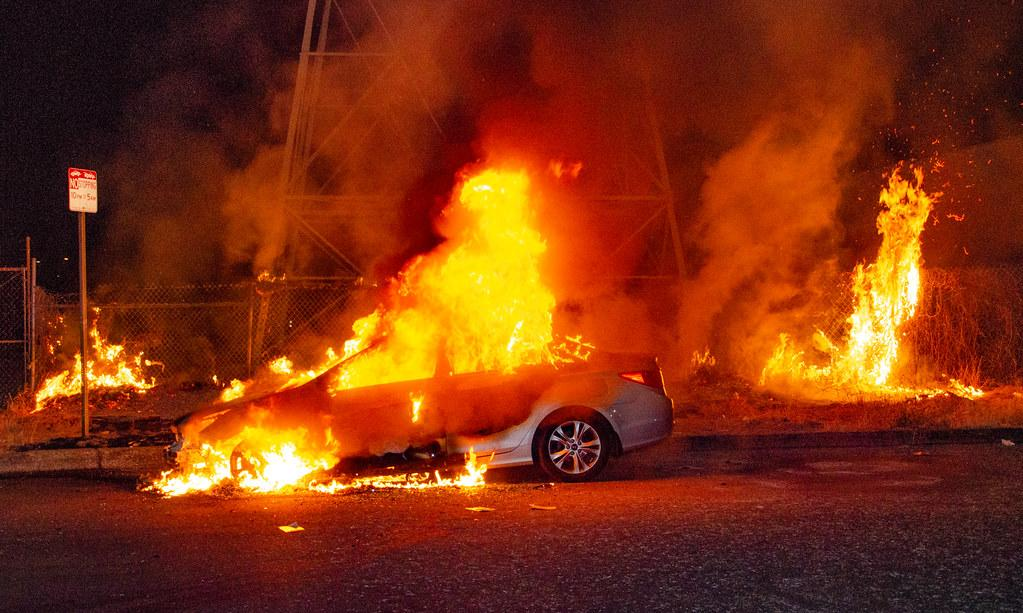fire: (270, 170, 578, 393), (758, 166, 940, 404), (128, 427, 343, 499), (36, 309, 159, 407), (356, 450, 491, 492), (688, 346, 718, 376), (214, 379, 246, 403), (962, 383, 988, 397)
smoke: (280, 0, 1012, 171), (98, 19, 281, 299), (556, 175, 843, 344), (282, 174, 418, 280)
